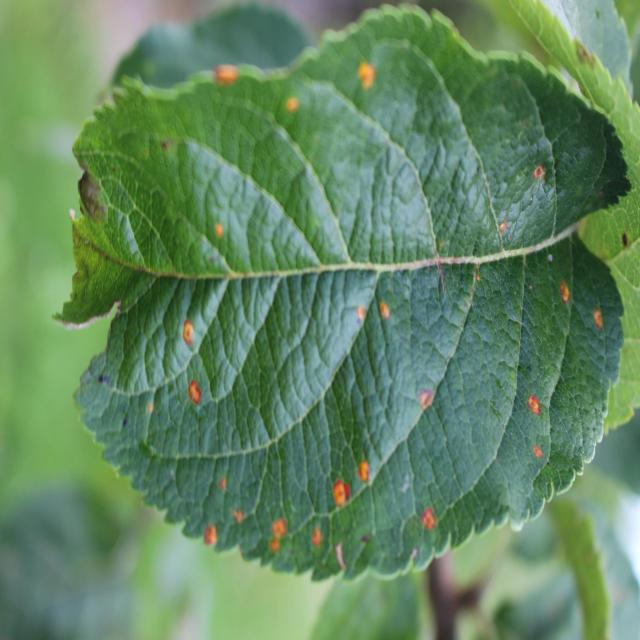Rust: (201, 50, 248, 91), (190, 508, 220, 569), (354, 445, 382, 505), (167, 313, 210, 351), (350, 54, 391, 91), (267, 505, 291, 566), (550, 266, 577, 318), (228, 494, 256, 544), (520, 380, 550, 425), (523, 154, 555, 196), (586, 289, 611, 342), (417, 369, 436, 438), (323, 475, 356, 514), (413, 502, 446, 540), (302, 516, 331, 557), (371, 288, 398, 332), (523, 428, 552, 468), (203, 214, 236, 249), (180, 378, 216, 410), (486, 209, 520, 239), (269, 92, 308, 112), (348, 297, 371, 329), (215, 476, 236, 498)
